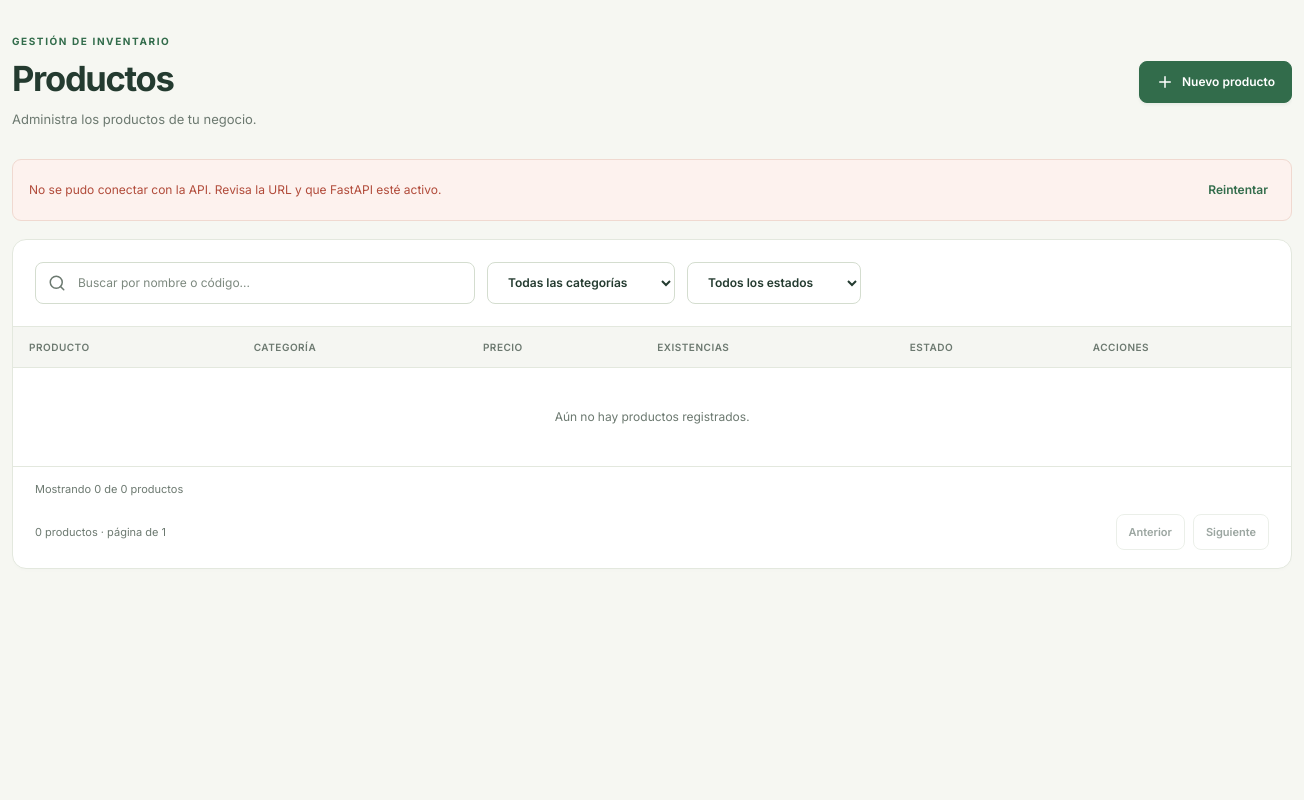
Scenario: fallo de conexión permite reintentar la carga
The width and height of the screenshot is (1304, 800).
Expected: the message shows "No se pudo conectar", [29, 182, 441, 197]
Click the button "Reintentar" at (1238, 190), box [1201, 173, 1275, 207]
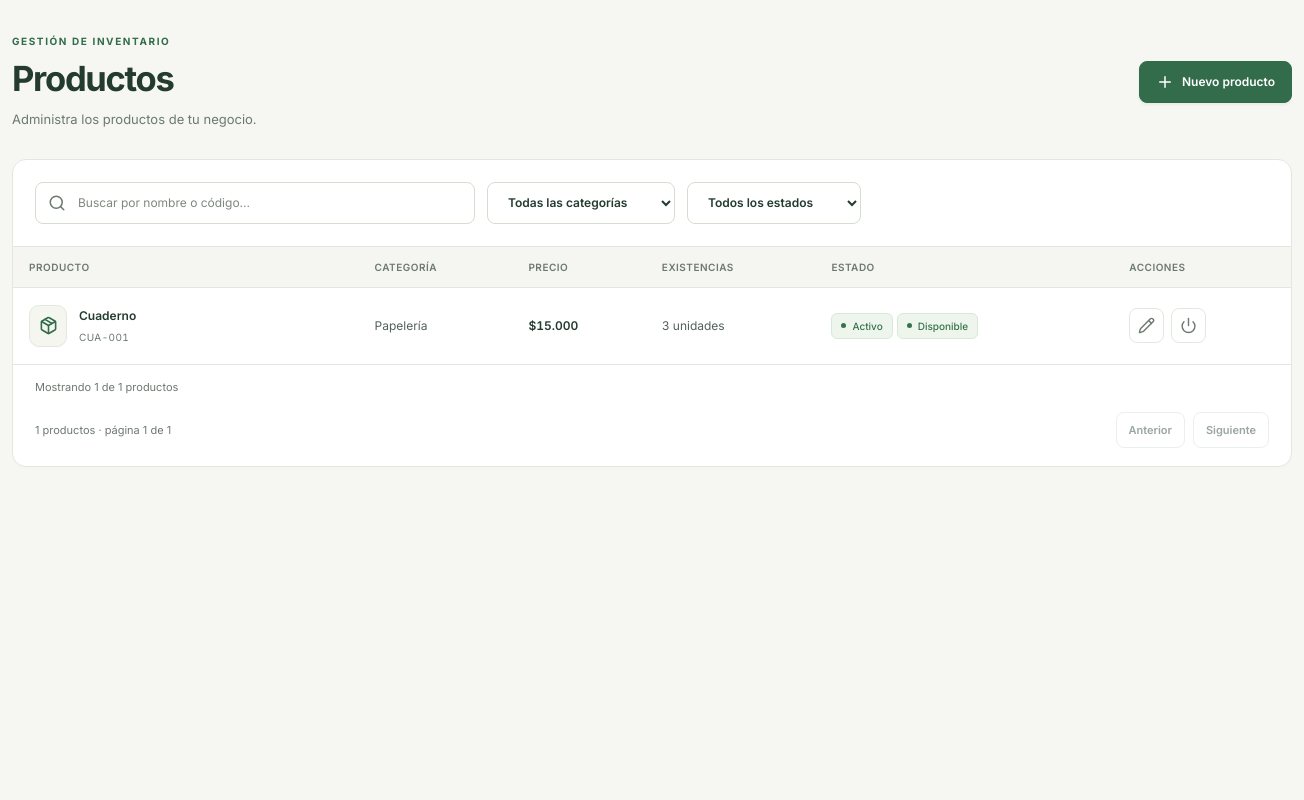
Now the text "Cuaderno" is shown, box [79, 307, 136, 325]
